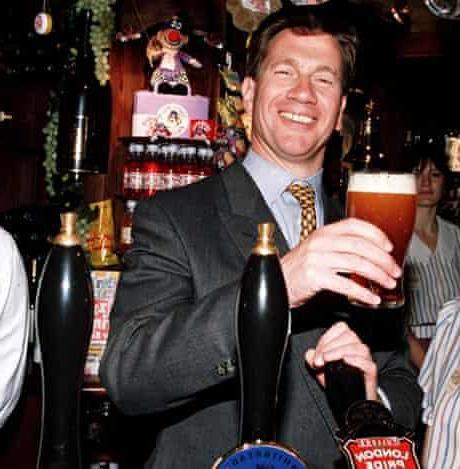Drunk: (264, 32, 340, 157)
